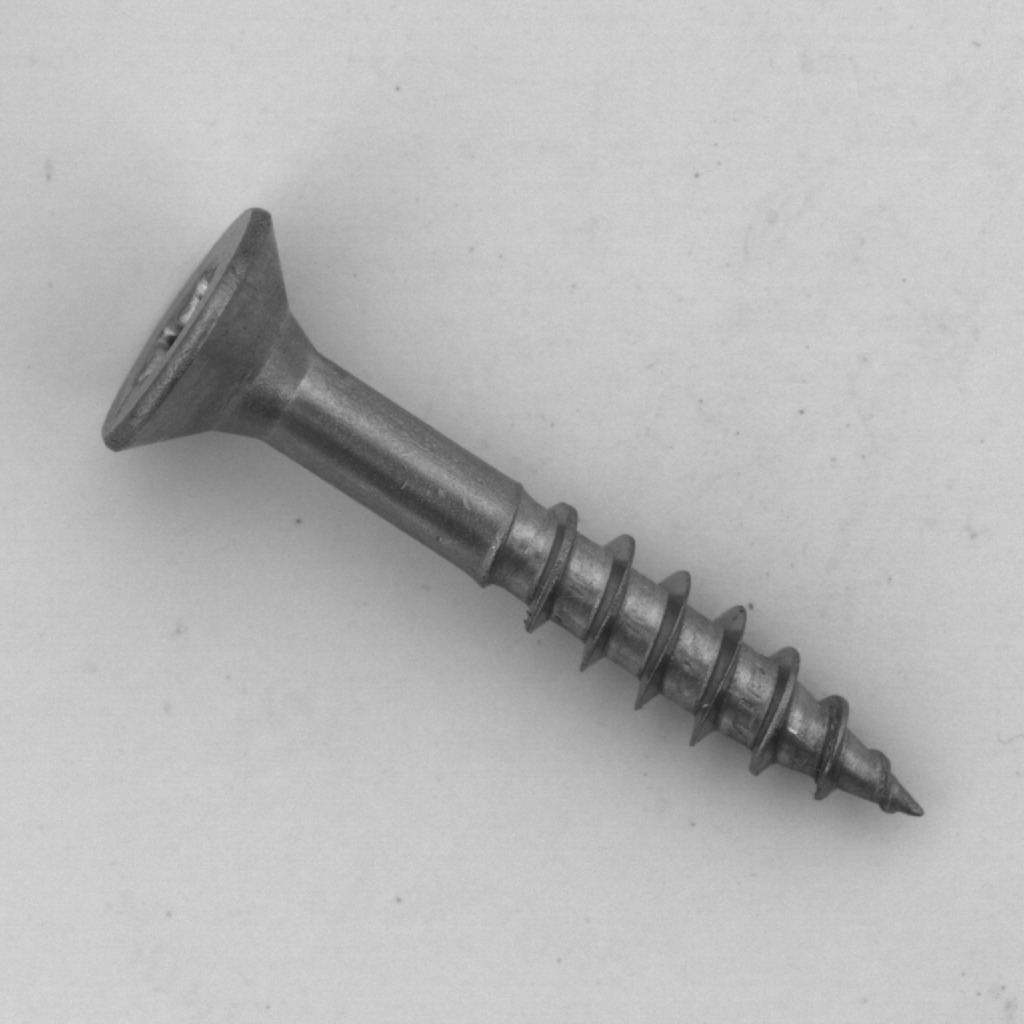good: (71, 192, 956, 839)
